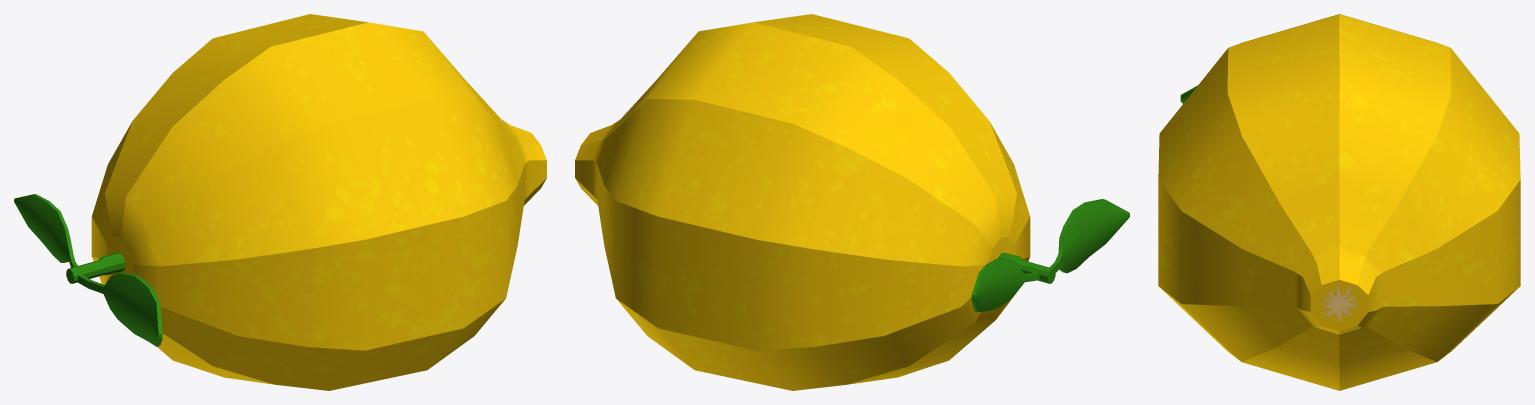
File: Lemon_v01.fbx
3 renders of one model, left to right at view 1: azimuth 30°, elevation 25°; view 2: azimuth 150°, elevation 25°; view 3: azimuth 270°, elevation 25°, orthographic. The views are drawn at different scales.
Visible parts, largest first — view 1: Lemon, Leaf_01, Leaf_02, Stem; view 2: Lemon, Leaf_01, Leaf_02, Stem; view 3: Lemon.
Boxes of the visible parts, x1,y1,x2,y2 form: Lemon: (91,14,546,390); Leaf_01: (77,272,162,346); Leaf_02: (14,194,77,267); Stem: (66,252,125,283); Lemon: (575,14,1030,390); Leaf_01: (1049,199,1129,273); Leaf_02: (971,258,1039,311); Stem: (998,252,1055,283); Lemon: (1158,14,1520,390).
Bounding box in the file's own units: 4.26 × 2.99 × 3.03.
Materials: 1 (1 with a texture image).
